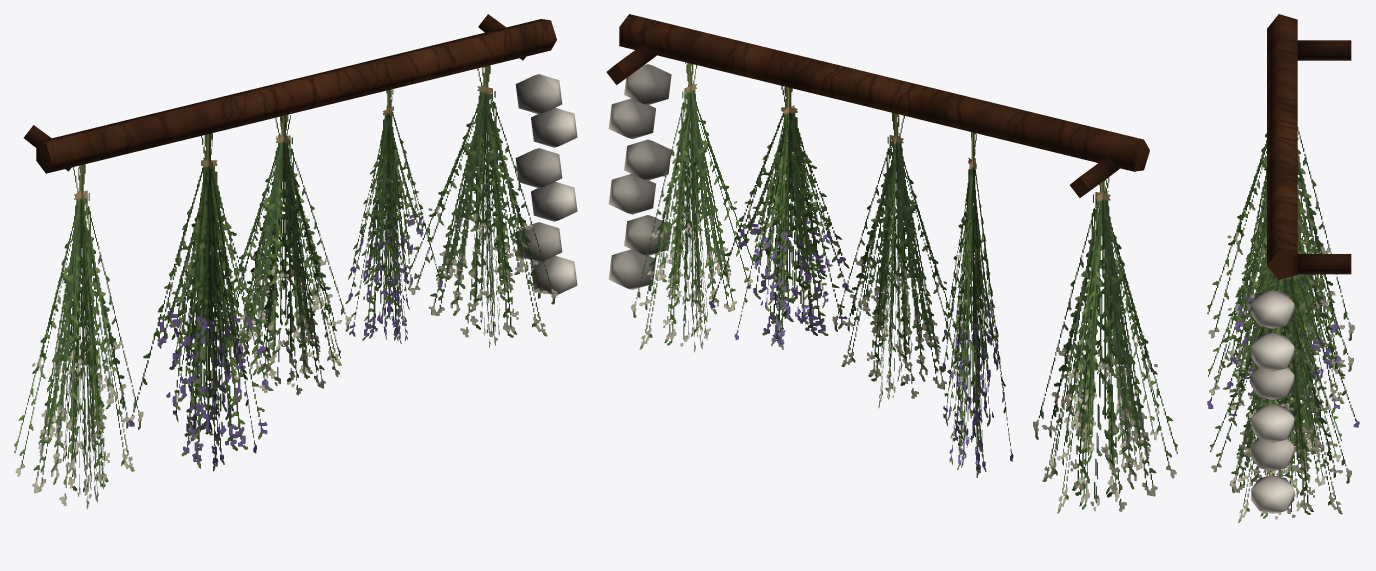
Rendered from interior_herbs.glb.
3 views of the same model, side by side, from view 1: azimuth 30°, elevation 25°; view 2: azimuth 150°, elevation 25°; view 3: azimuth 270°, elevation 25° (orthographic). The views are drawn at different scales.
Visible parts, largest first — view 1: interior_herbs; view 2: interior_herbs; view 3: interior_herbs.
Boxes of the visible parts, <box> form: interior_herbs: <box>14,14,577,509</box>; interior_herbs: <box>606,14,1177,513</box>; interior_herbs: <box>1207,14,1359,522</box>.
Size of the model in its own units: 1.1 by 0.7411 by 0.2778.
Materials: 3 (2 with a texture image).
